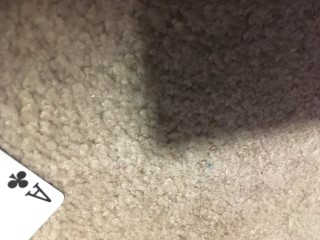AceOfClubs: (1, 148, 65, 240)
